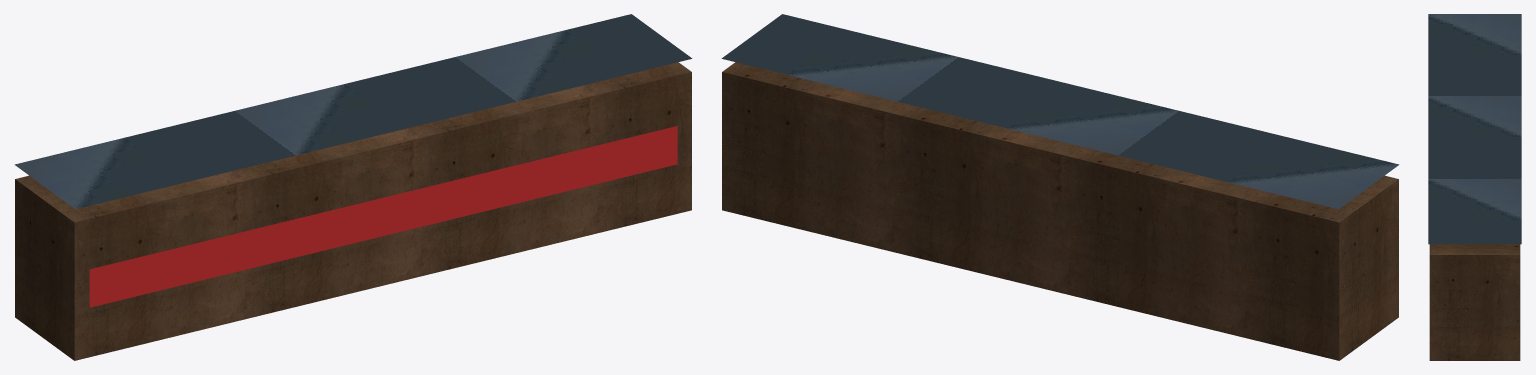
File: counter.glb
The picture shows the model from 3 angles, left to right: view 1: azimuth 30°, elevation 25°; view 2: azimuth 150°, elevation 25°; view 3: azimuth 270°, elevation 25°; orthographic projection. The views are drawn at different scales.
Visible parts, largest first — view 1: counter_0, counter_2, counter_1; view 2: counter_0, counter_2; view 3: counter_2, counter_0.
Boxes of the visible parts, left/top/right/bottom form: counter_0: left=15, top=62, right=691, bottom=360; counter_2: left=14, top=14, right=692, bottom=209; counter_1: left=89, top=126, right=677, bottom=307; counter_0: left=722, top=62, right=1398, bottom=360; counter_2: left=721, top=14, right=1399, bottom=209; counter_2: left=1428, top=14, right=1521, bottom=244; counter_0: left=1429, top=244, right=1520, bottom=360.
Bounding box in the file's own units: 4.2 × 0.99 × 0.72.
Materials: 17 (17 with a texture image).
